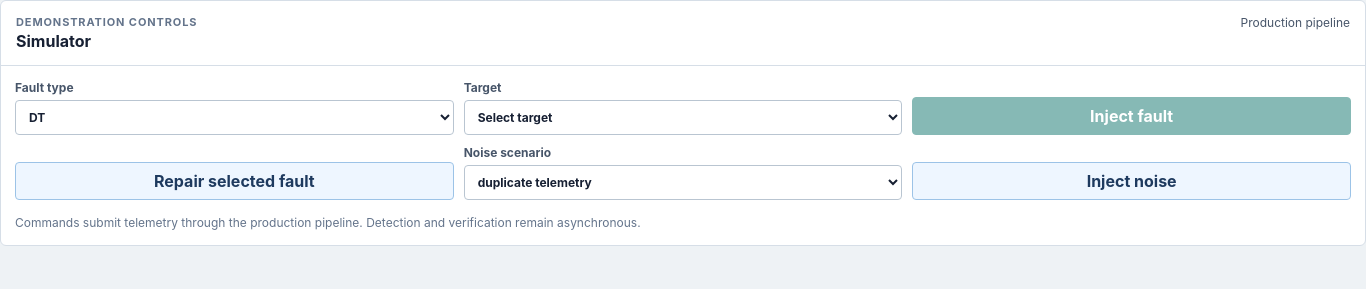
Test case: SimulatorPanel › submits documented simulator commands through the REST client
The image size is (1366, 289).
Select "DT-001" in the dropdown labelled "Target" at (683, 118), box [464,100,902,135]
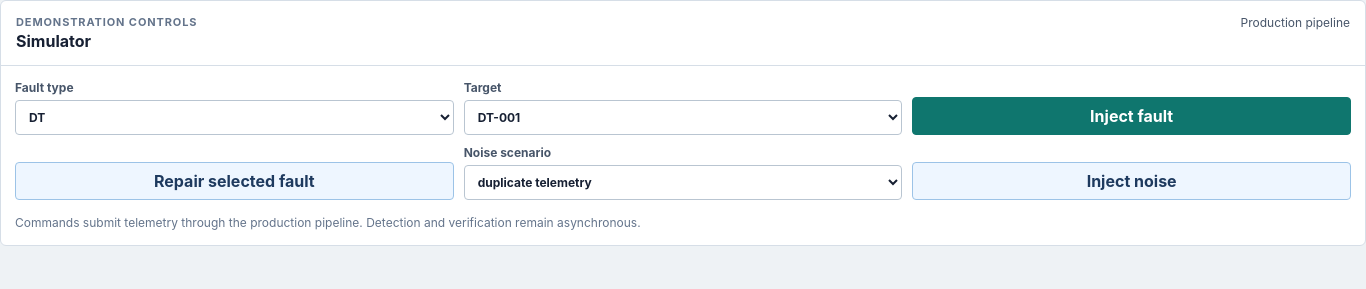
Click the button "Inject fault" at (1132, 116), box [912,97,1351,135]
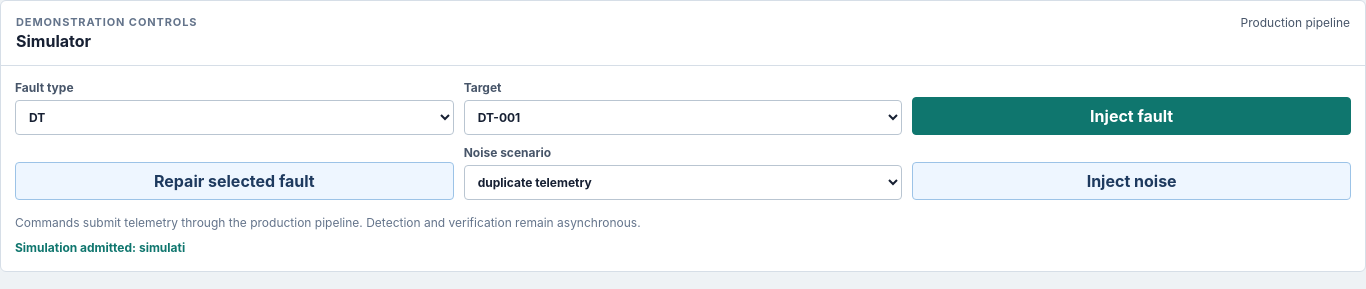
Expected: the text "Simulation admitted: simulati" is shown, [15,240,185,255]
